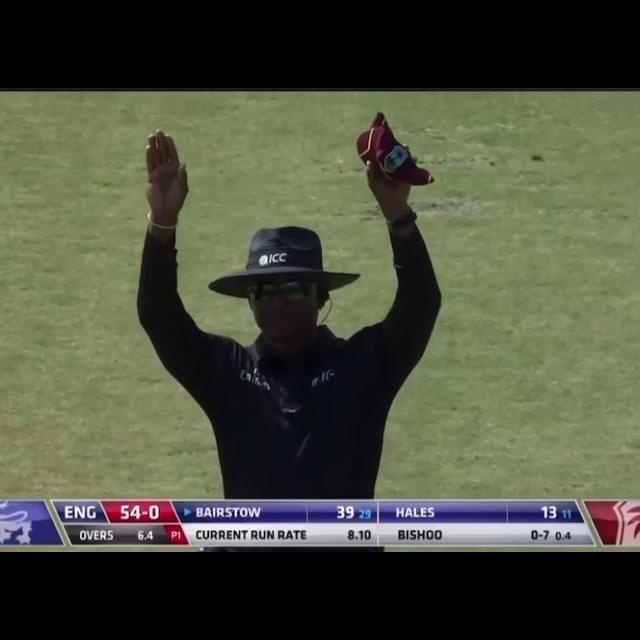umpire: (119, 100, 443, 495)
